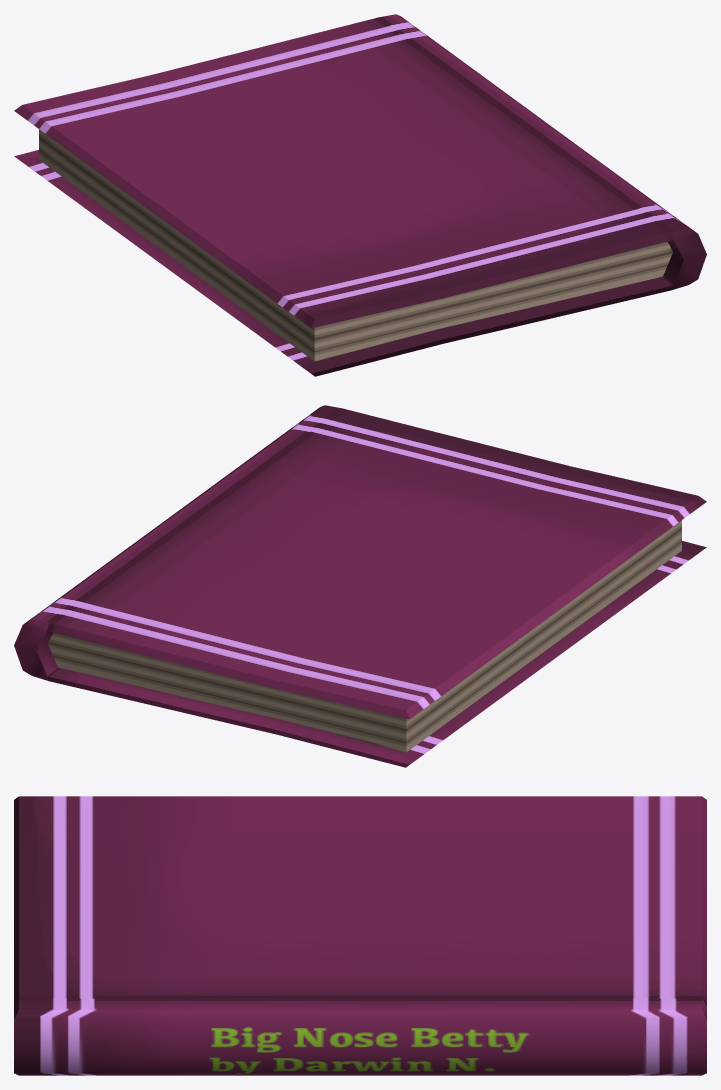
Rendered from thinlyingbook.fbx.
3 views of the same model, one above another, from view 1: azimuth 30°, elevation 25°; view 2: azimuth 150°, elevation 25°; view 3: azimuth 270°, elevation 25° (orthographic). The views are drawn at different scales.
Parts seen in each view (by area): view 1: prop_bossbook4; view 2: prop_bossbook4; view 3: prop_bossbook4.
Boxes of the visible parts, bbox=[...] form: prop_bossbook4: bbox=[14, 14, 706, 376]; prop_bossbook4: bbox=[14, 405, 706, 767]; prop_bossbook4: bbox=[14, 796, 706, 1075].
Bounding box in the file's own units: 181 × 25.55 × 235.
